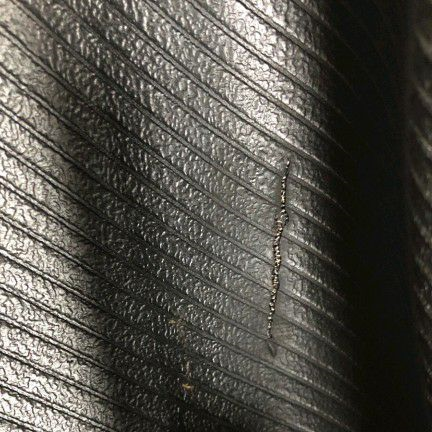cut: (261, 156, 295, 363)
